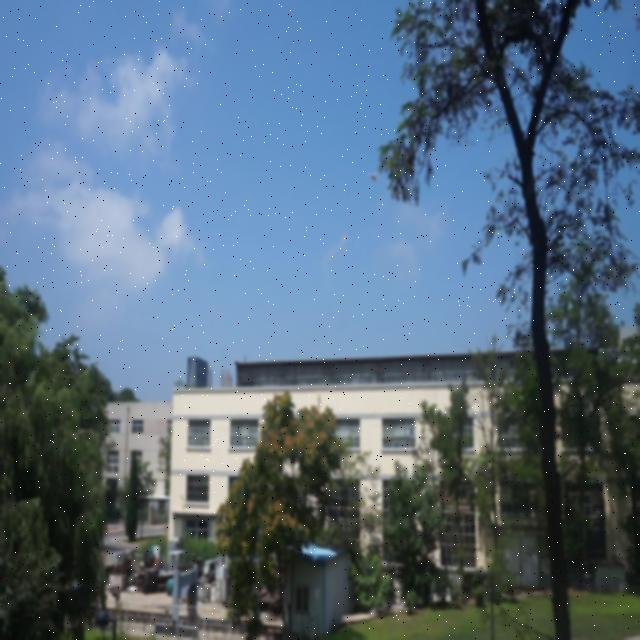UAV: (369, 171, 379, 184)
